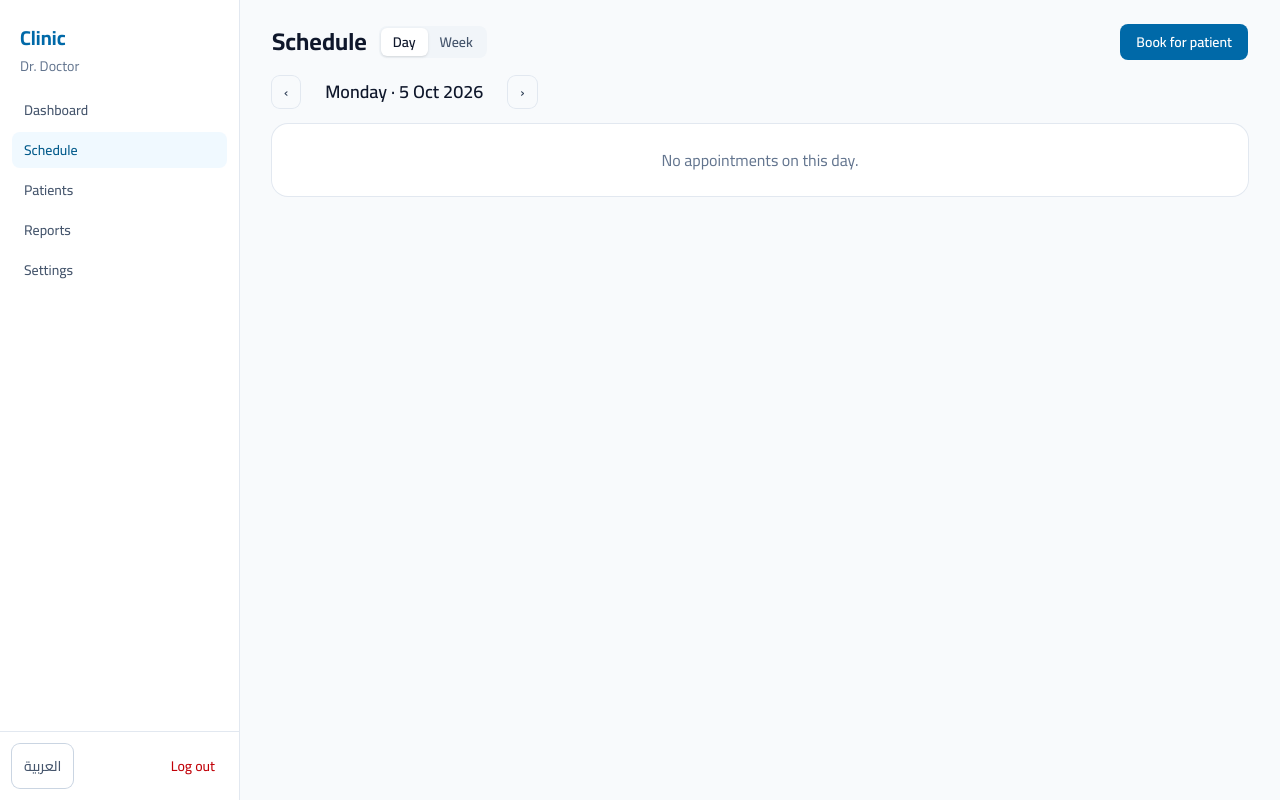
Schedule: day view › moves between days and back to today
This screenshot has width=1280, height=800.
Expected: the text "No appointments on this day." is shown, [272,124,1248,196]
Click the button named "Next day" at (522, 92), box [508,76,537,108]
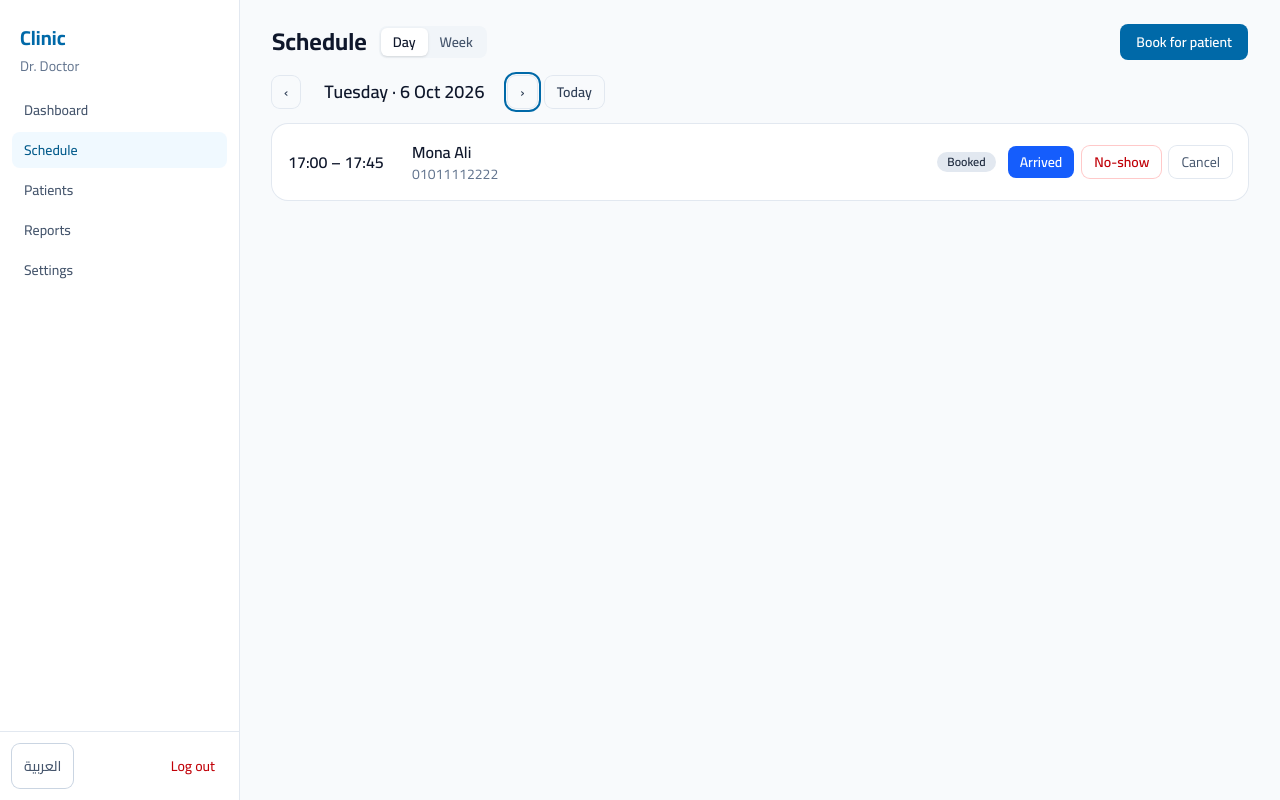
Expected: the text "Mona Ali" is shown, [412,137,471,167]
Expected: the heading "Tuesday · 6 Oct 2026" is shown, [324,75,484,108]
Click the button named "Previous day" at (286, 92), box [272,76,300,108]
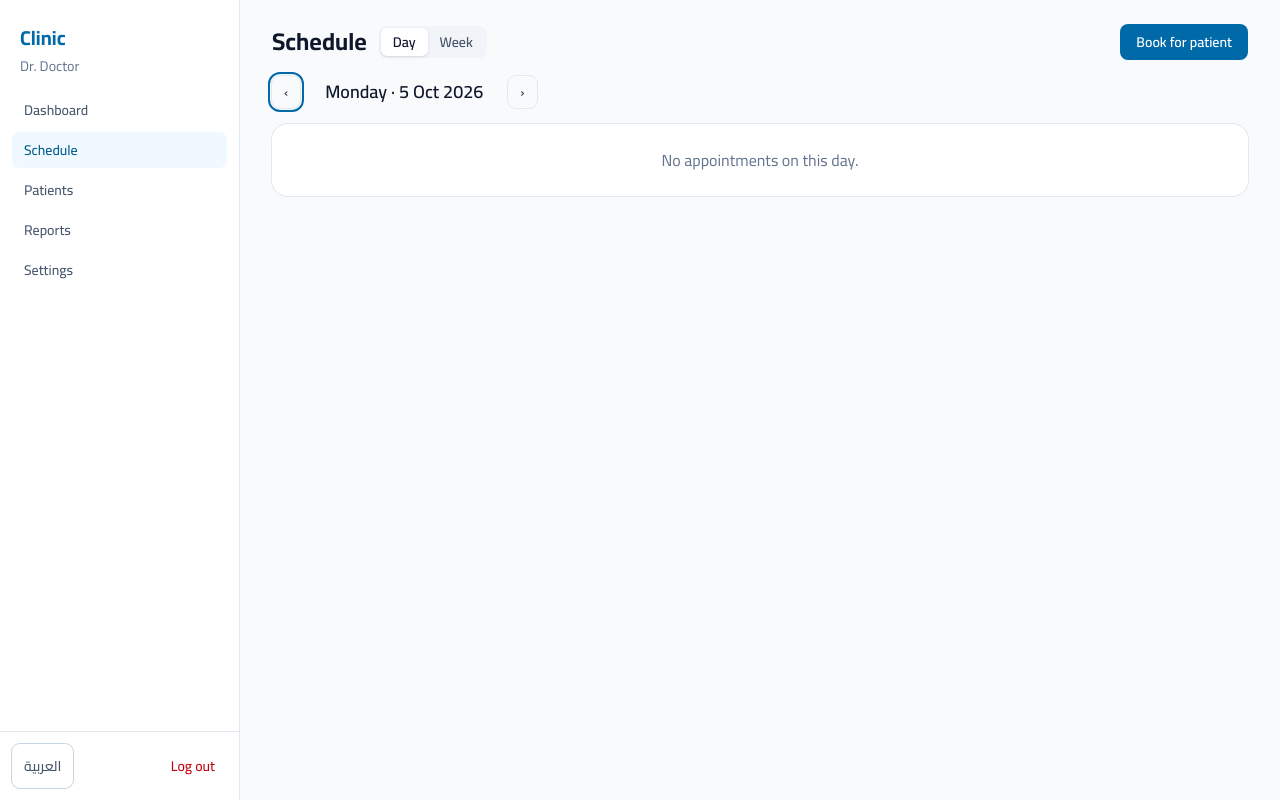
Click the button named "Previous day" at (286, 92), box [272,76,300,108]
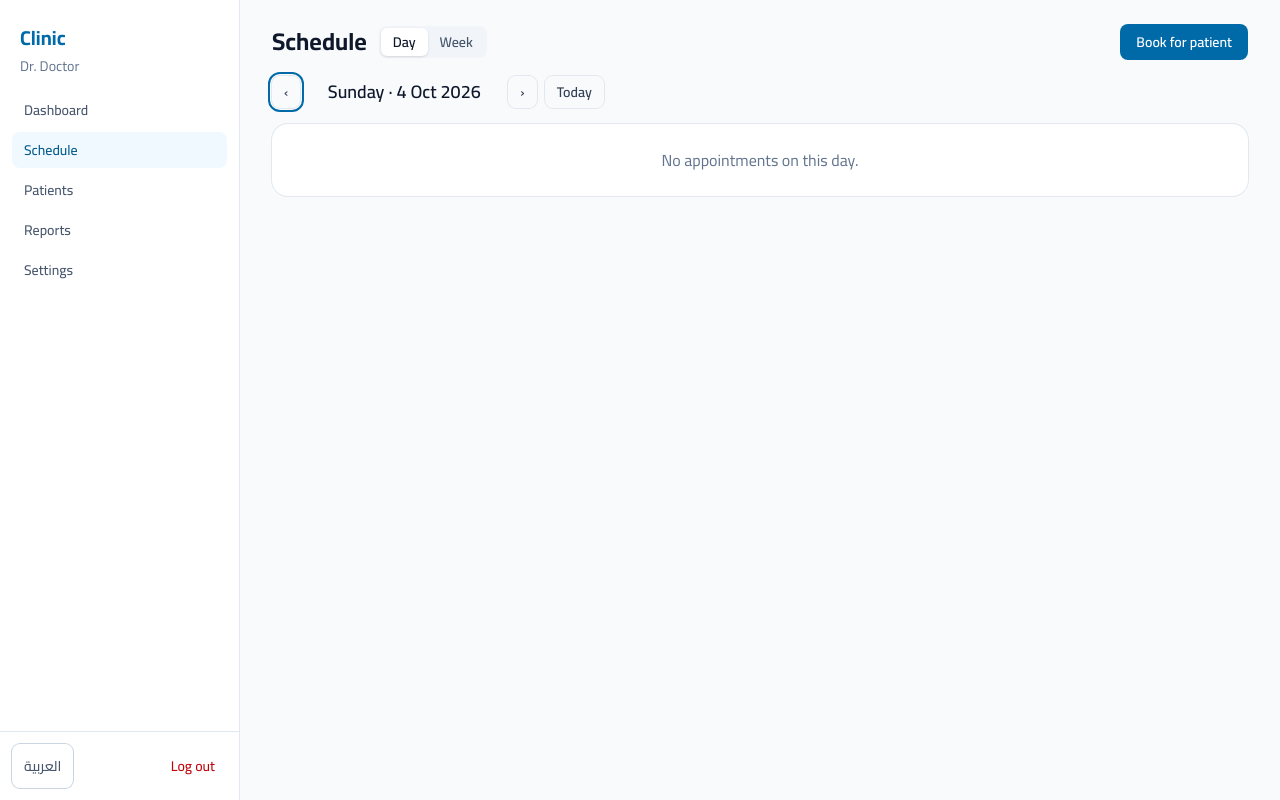
Click the button "Today" at (574, 92), box [545,76,604,108]
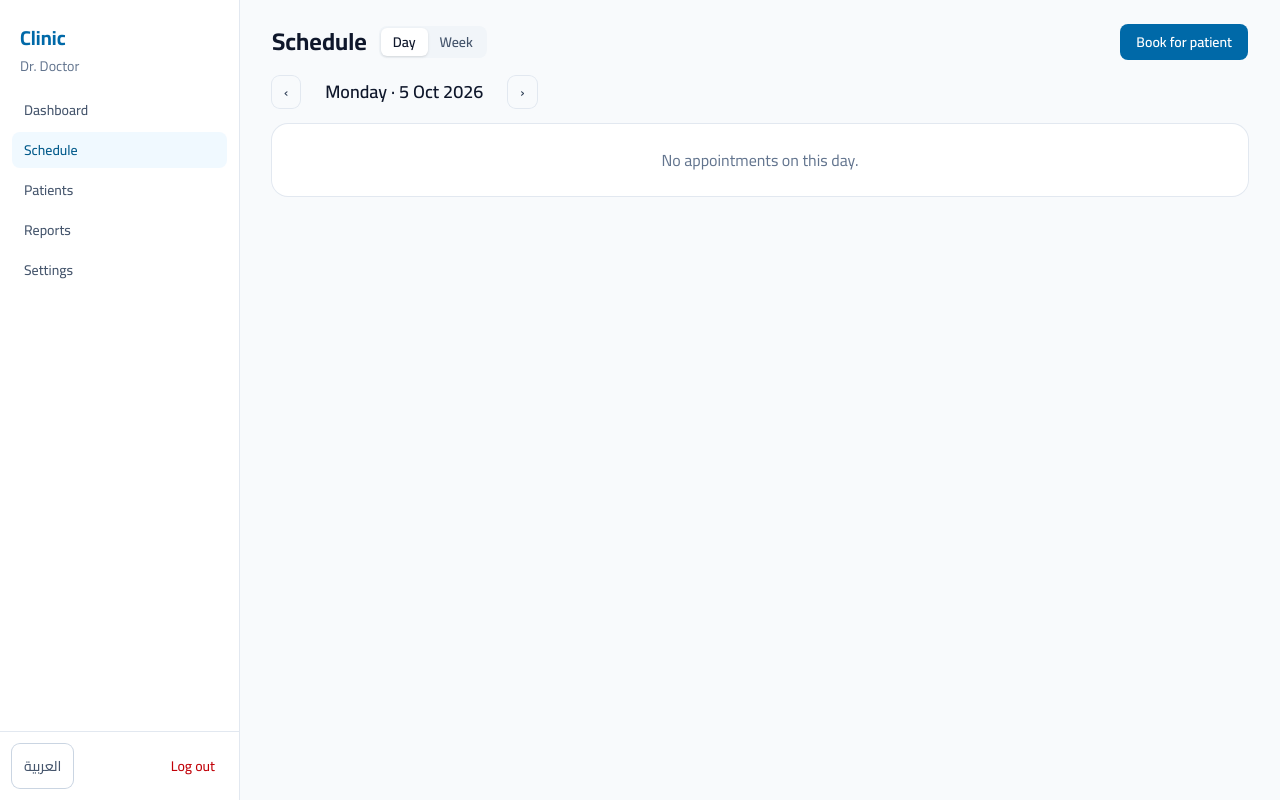
Expected: the heading "Monday · 5 Oct 2026" is shown, [325,75,483,108]
